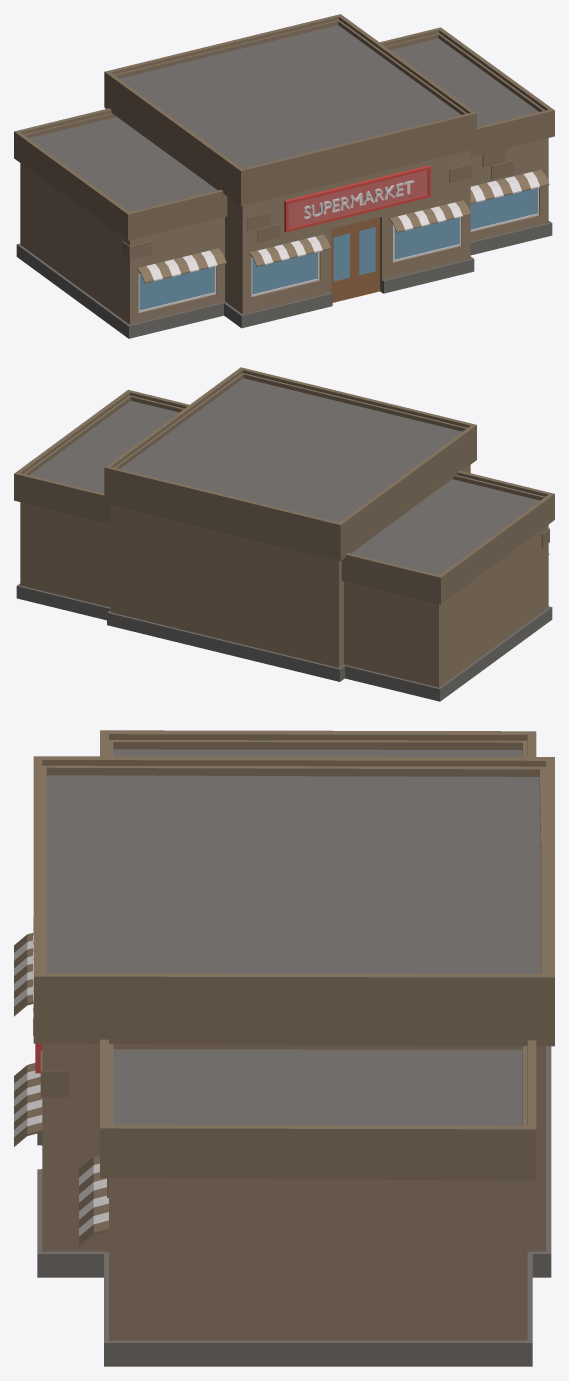
Rendered from Supermarket.fbx.
3 views of the same model, one above another, from view 1: azimuth 30°, elevation 25°; view 2: azimuth 150°, elevation 25°; view 3: azimuth 270°, elevation 25° (orthographic). The views are drawn at different scales.
Parts seen in each view (by area): view 1: Supermarket; view 2: Supermarket; view 3: Supermarket.
Part boxes in pixels (left/top/right/bottom): Supermarket: left=14, top=14, right=554, bottom=338; Supermarket: left=14, top=367, right=554, bottom=701; Supermarket: left=14, top=730, right=554, bottom=1366.
Bounding box in the file's own units: 25.49 × 9.04 × 14.64.
